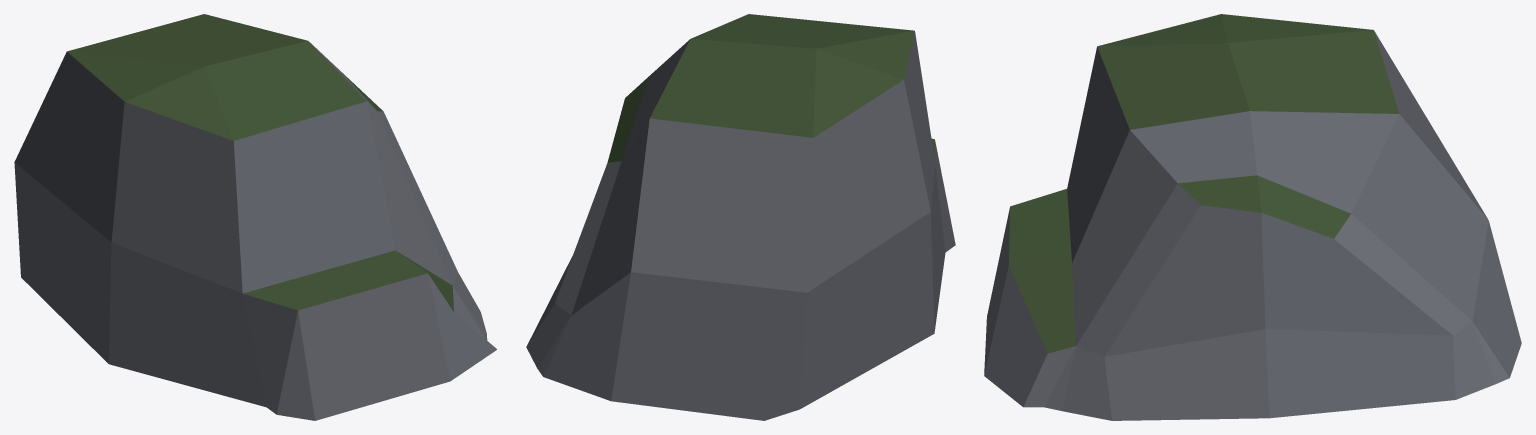
File: rock_moss_5.glb
3 renders of one model, left to right at view 1: azimuth 30°, elevation 25°; view 2: azimuth 150°, elevation 25°; view 3: azimuth 270°, elevation 25°, orthographic. The views are drawn at different scales.
Visible parts, largest first — view 1: rock_moss_5; view 2: rock_moss_5; view 3: rock_moss_5.
Boxes of the visible parts, left/top/right/bottom form: rock_moss_5: left=14, top=14, right=496, bottom=420; rock_moss_5: left=526, top=14, right=955, bottom=420; rock_moss_5: left=984, top=14, right=1521, bottom=420.
Bounding box in the file's own units: 1.09 × 0.9457 × 1.5.
